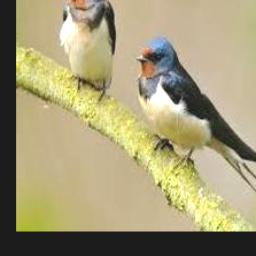Swallow: (135, 38, 256, 227), (60, 0, 117, 93)
